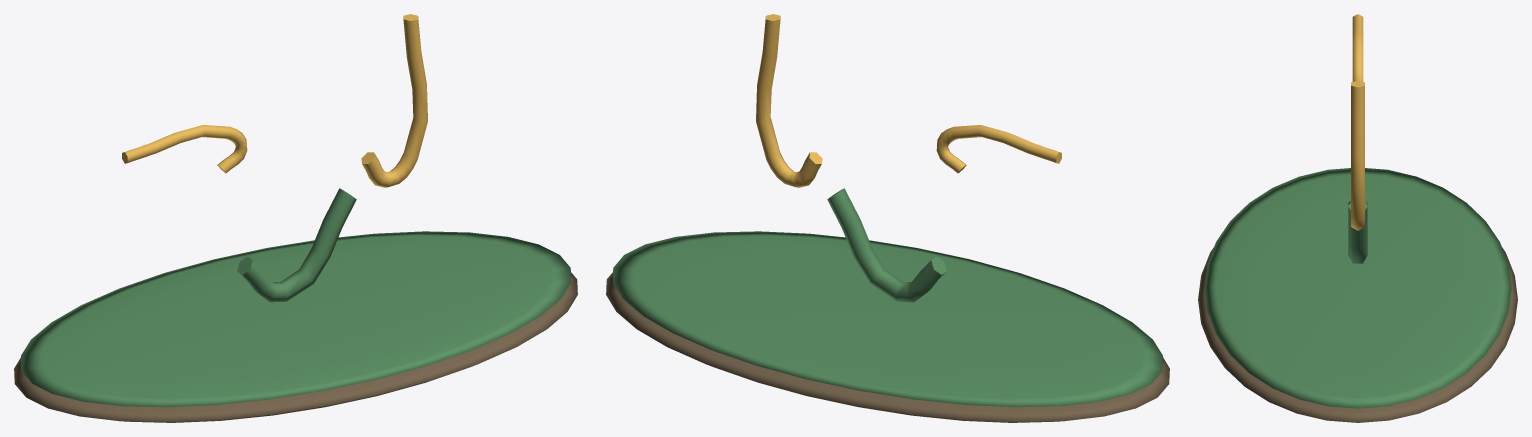
File: complete-first-finished-hook.glb
The picture shows the model from 3 angles, left to right: view 1: azimuth 30°, elevation 25°; view 2: azimuth 150°, elevation 25°; view 3: azimuth 270°, elevation 25°; orthographic projection. The views are drawn at different scales.
Visible parts, largest first — view 1: complete-first-finished-hook_surface_01, complete-first-finished-hook_surface_00, complete-first-finished-hook_surface_02; view 2: complete-first-finished-hook_surface_01, complete-first-finished-hook_surface_00, complete-first-finished-hook_surface_02; view 3: complete-first-finished-hook_surface_01, complete-first-finished-hook_surface_00, complete-first-finished-hook_surface_02.
Part boxes in pixels (x1=…): complete-first-finished-hook_surface_01: x1=21, y1=188, x2=570, y2=407; complete-first-finished-hook_surface_00: x1=14, y1=272, x2=577, y2=422; complete-first-finished-hook_surface_02: x1=122, y1=14, x2=427, y2=187; complete-first-finished-hook_surface_01: x1=613, y1=188, x2=1162, y2=407; complete-first-finished-hook_surface_00: x1=606, y1=272, x2=1169, y2=422; complete-first-finished-hook_surface_02: x1=756, y1=14, x2=1061, y2=187; complete-first-finished-hook_surface_01: x1=1204, y1=168, x2=1511, y2=408; complete-first-finished-hook_surface_00: x1=1198, y1=247, x2=1517, y2=422; complete-first-finished-hook_surface_02: x1=1351, y1=14, x2=1364, y2=230.
Bounding box in the file's own units: 4.56 × 2.44 × 2.5.
